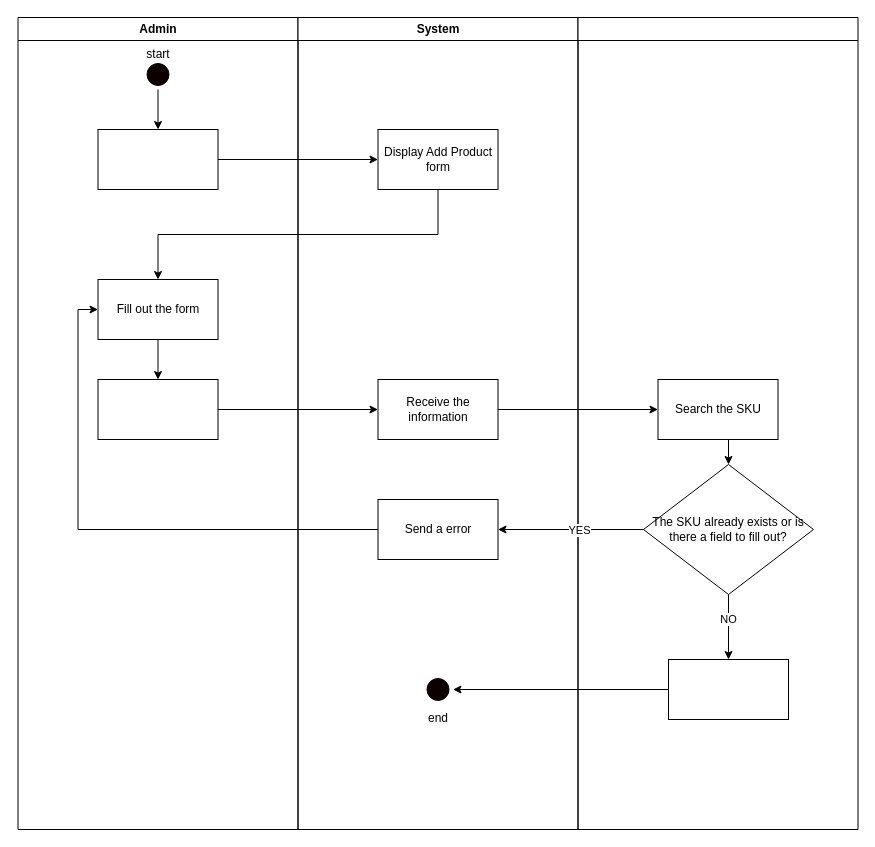
Some shapes in this 875 by 847 pixel diagram are drawn without their labels. Here are the shapes that lost their labels. From the top down, the box of each, then its label:
(97, 128, 218, 190): click on Add Product button
(97, 378, 218, 440): Click on save button
(577, 16, 858, 830): Database
(668, 658, 788, 720): Create new Product in Product table
